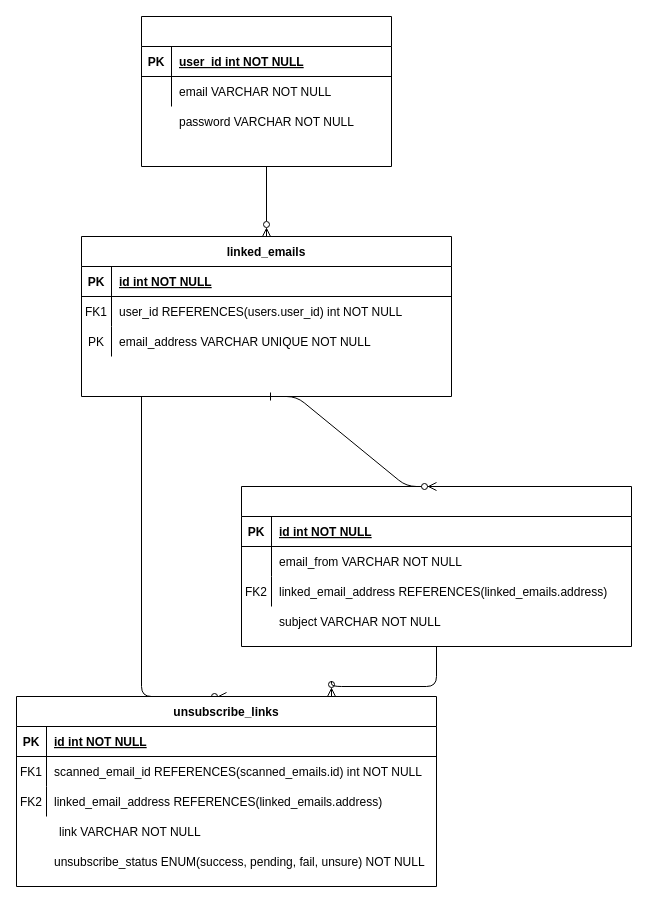
This 648x903 diagram has some shape labels left out. Each missing label, with the box of its shape:
scanned_emails: (240, 486, 632, 646)
users: (140, 16, 392, 166)
